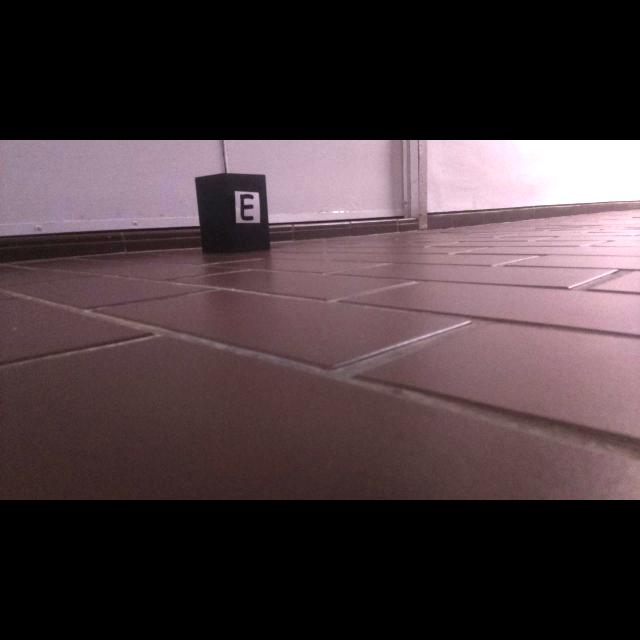E: (240, 194, 254, 221)
